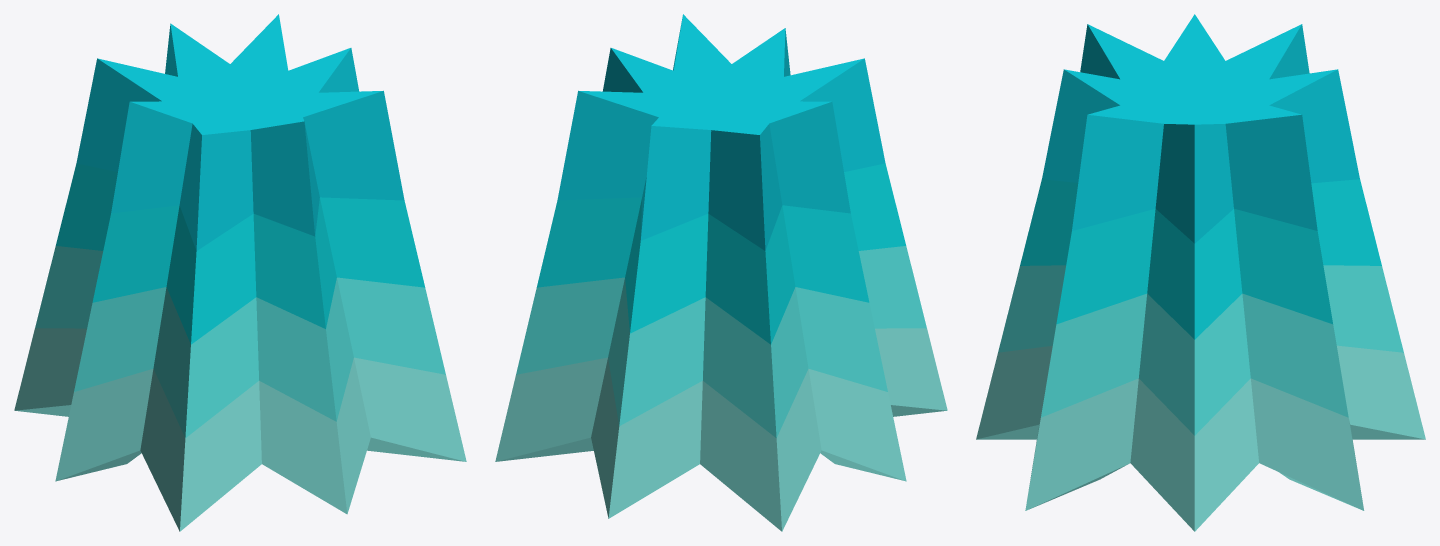
The model's file is boss_body2.glb.
3 renders of one model, left to right at view 1: azimuth 30°, elevation 25°; view 2: azimuth 150°, elevation 25°; view 3: azimuth 270°, elevation 25°, orthographic. The views are drawn at different scales.
Parts seen in each view (by area): view 1: Cylinder.004; view 2: Cylinder.004; view 3: Cylinder.004.
Part boxes in pixels (x1,y1,x2,y2): Cylinder.004: (14,14,466,531); Cylinder.004: (495,14,947,531); Cylinder.004: (976,14,1425,531).
Size of the model in its own units: 2.6 by 2.43 by 2.67.
